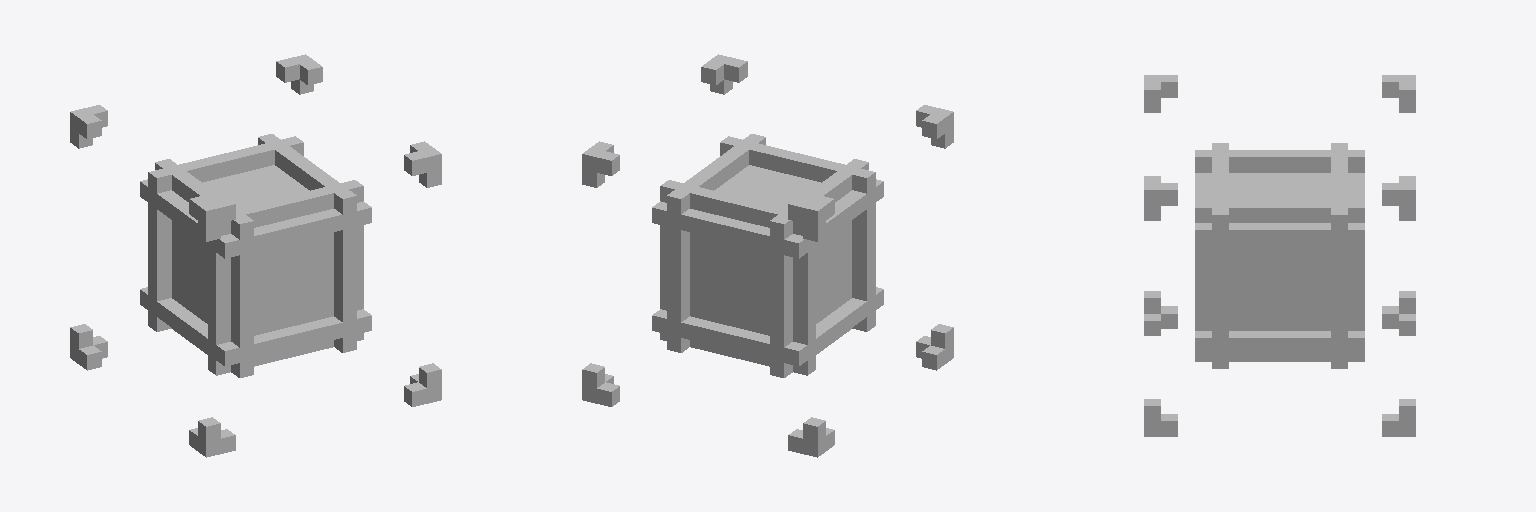
File: ml_scalar.obj
3 views of the same model, side by side, from view 1: azimuth 30°, elevation 25°; view 2: azimuth 150°, elevation 25°; view 3: azimuth 270°, elevation 25° (orthographic).
Parts seen in each view (by area): view 1: ml_scalar; view 2: ml_scalar; view 3: ml_scalar.
Boxes of the visible parts, x1,y1,x2,y2 form: ml_scalar: [70, 54, 441, 457]; ml_scalar: [582, 54, 953, 457]; ml_scalar: [1144, 75, 1415, 436].
Size of the model in its own units: 0.8 by 0.8 by 0.8.